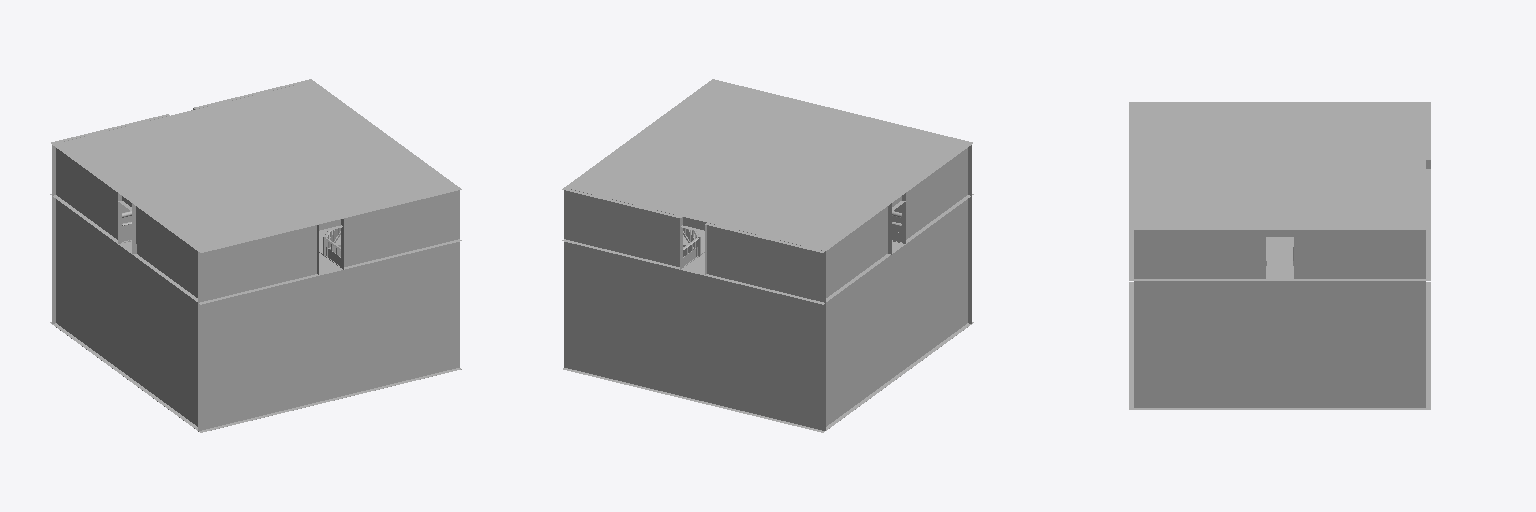
Rendered from HC_room4_pit.obj.
3 views of the same model, side by side, from view 1: azimuth 30°, elevation 25°; view 2: azimuth 150°, elevation 25°; view 3: azimuth 270°, elevation 25° (orthographic).
Visible parts, largest first — view 1: room4pit_opt.001; view 2: room4pit_opt.001; view 3: room4pit_opt.001.
Boxes of the visible parts, x1,y1,x2,y2 form: room4pit_opt.001: [50, 79, 461, 432]; room4pit_opt.001: [562, 79, 973, 432]; room4pit_opt.001: [1129, 102, 1430, 409].
Bounding box in the file's own units: 20.48 × 13.46 × 20.48.